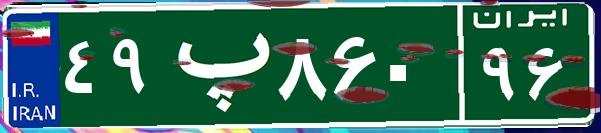0: (385, 28, 445, 110)
4: (57, 26, 110, 107)
6: (330, 28, 385, 110), (525, 38, 570, 115)
8: (273, 28, 330, 110)
9: (475, 38, 525, 113), (110, 28, 158, 105)
پ: (158, 15, 273, 115)
